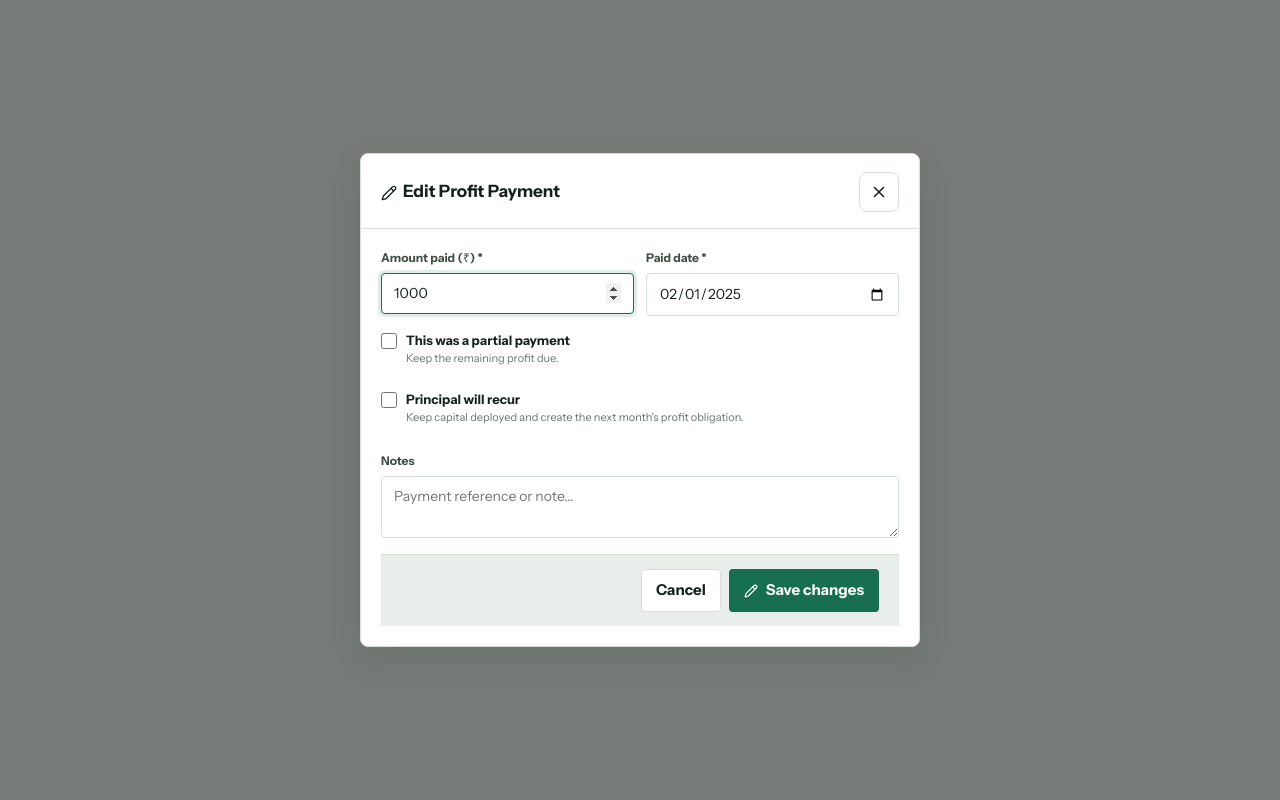
it: shows persistence errors and leaves the editor open
Click the button "Save changes" at (804, 591), box [729,569,879,612]
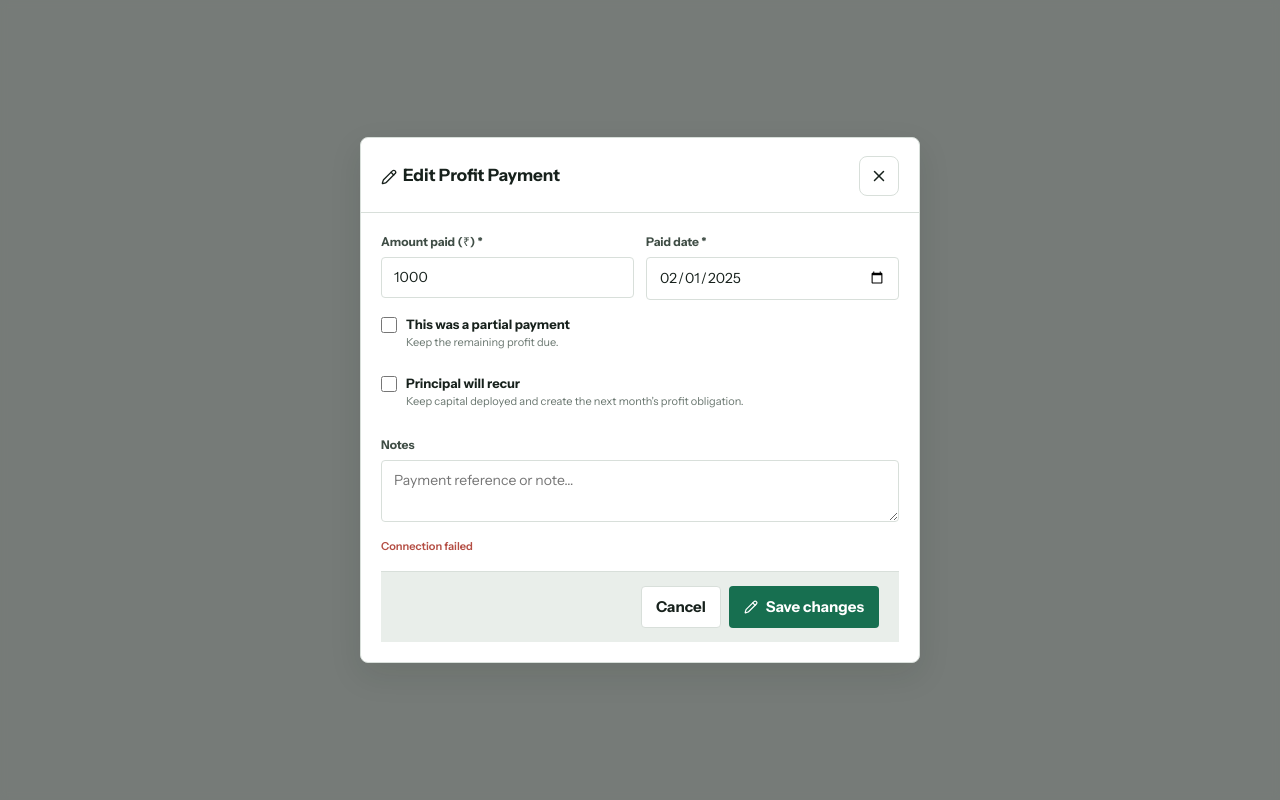
Now the message reads "Connection failed", box [381,539,473,553]
